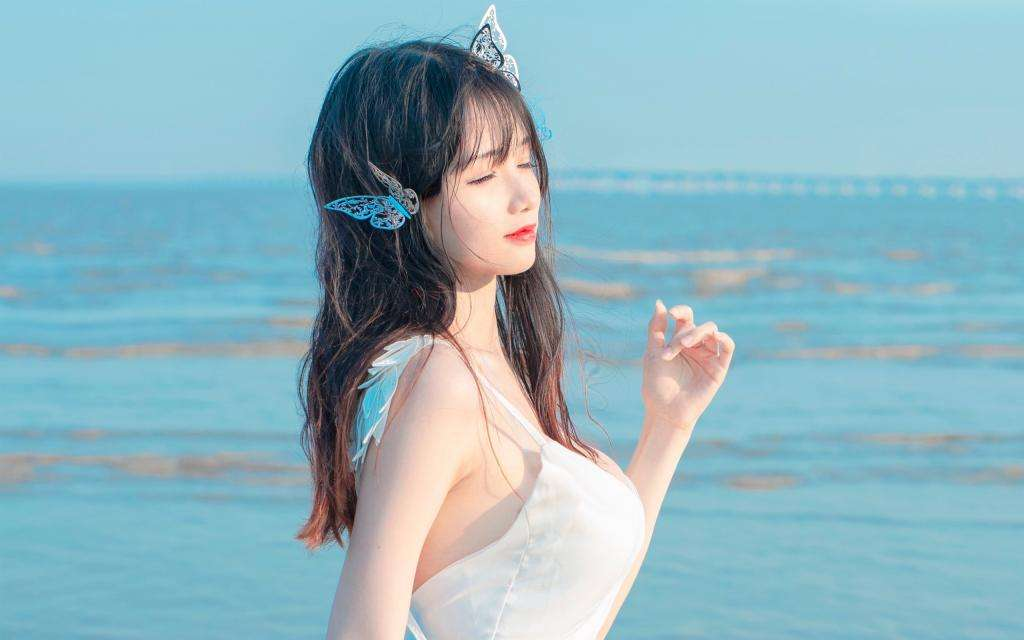person: (240, 41, 575, 610)
